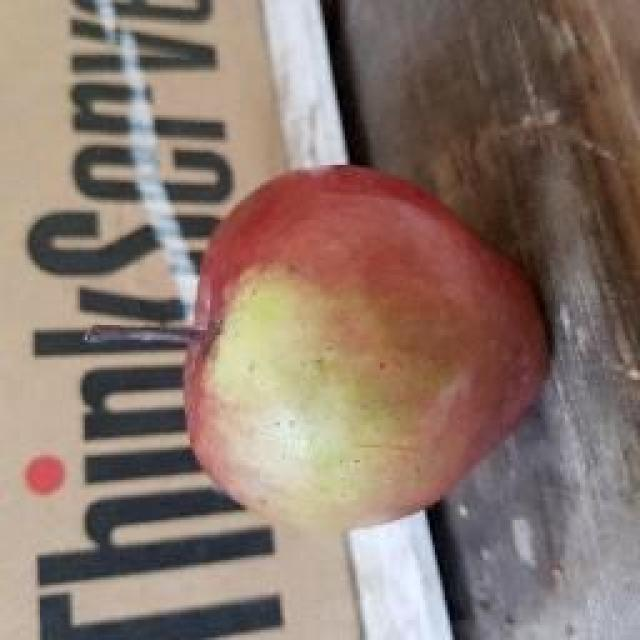Good_Apple: (182, 165, 552, 542)
